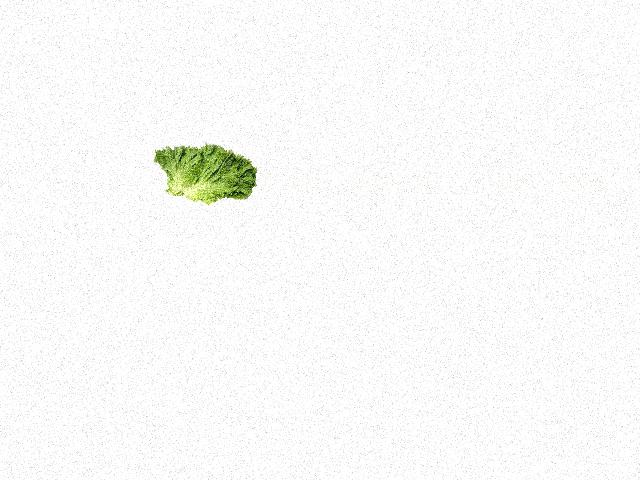lettuce: (154, 136, 257, 208)
